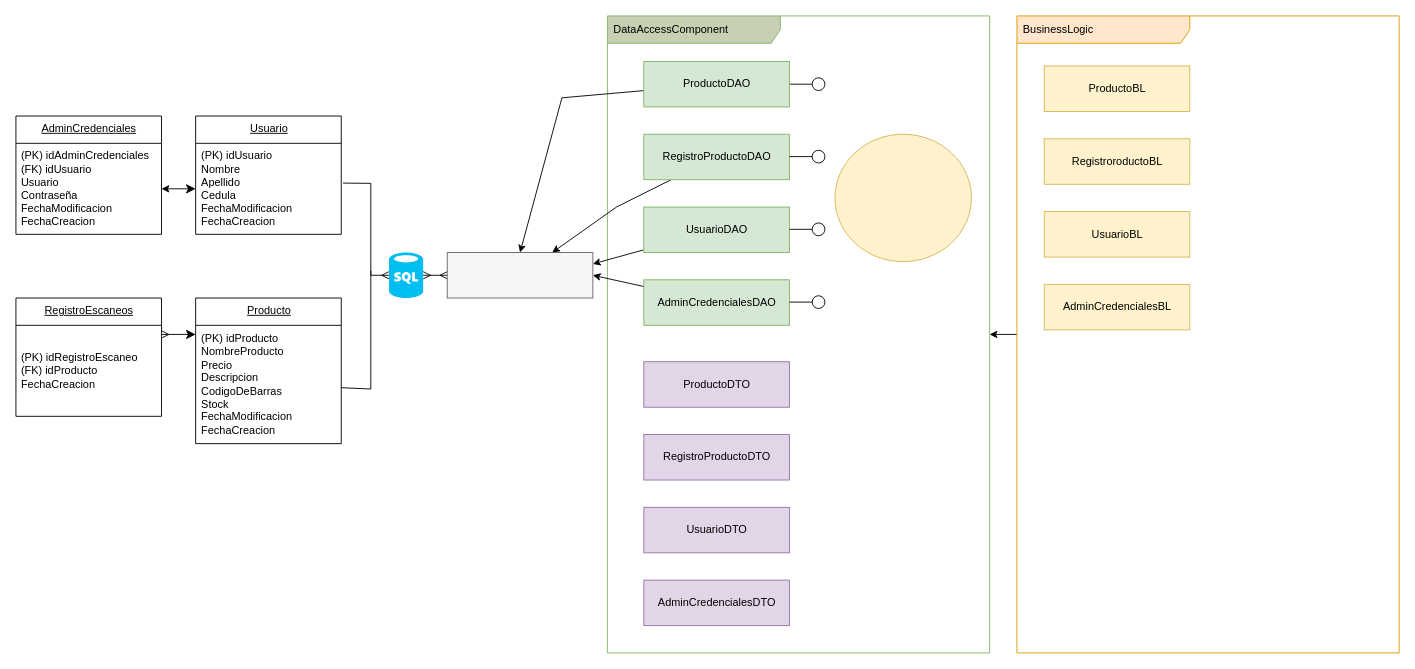
Some shapes in this 1415 by 669 pixel diagram are drawn without their labels. Each missing label, with the centre of its shape:
<<BarCodeDataHelper>>: (x=519, y=275)
iDAO: (x=902, y=197)
